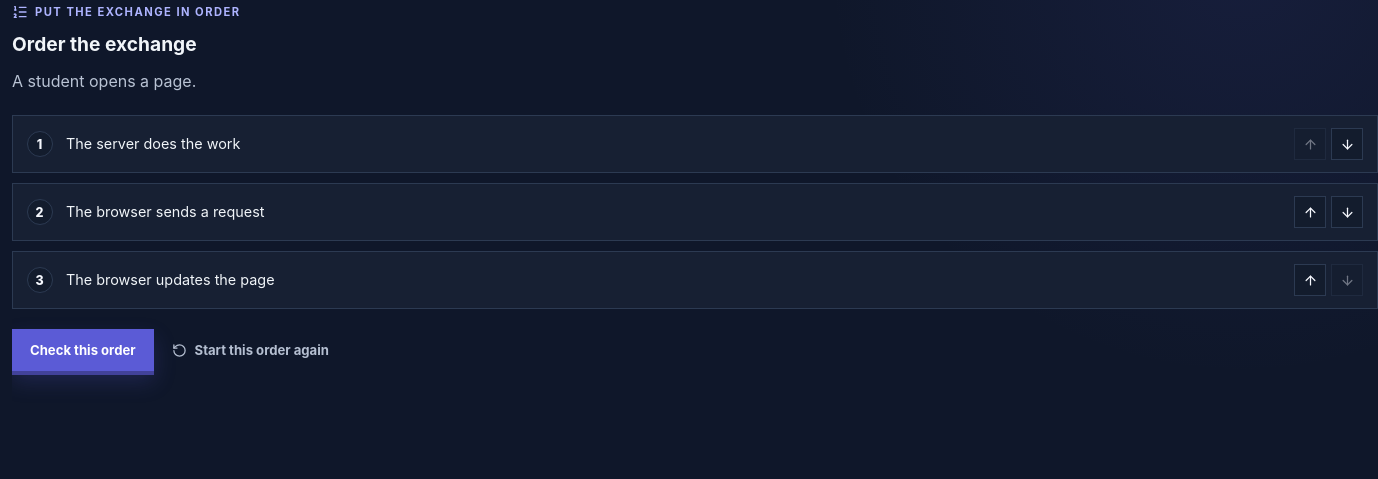
SequenceOrder › reports an order that is not yet right without completing the step
Click the button "Check this order": coordinates (83, 350) [12,329,154,371]
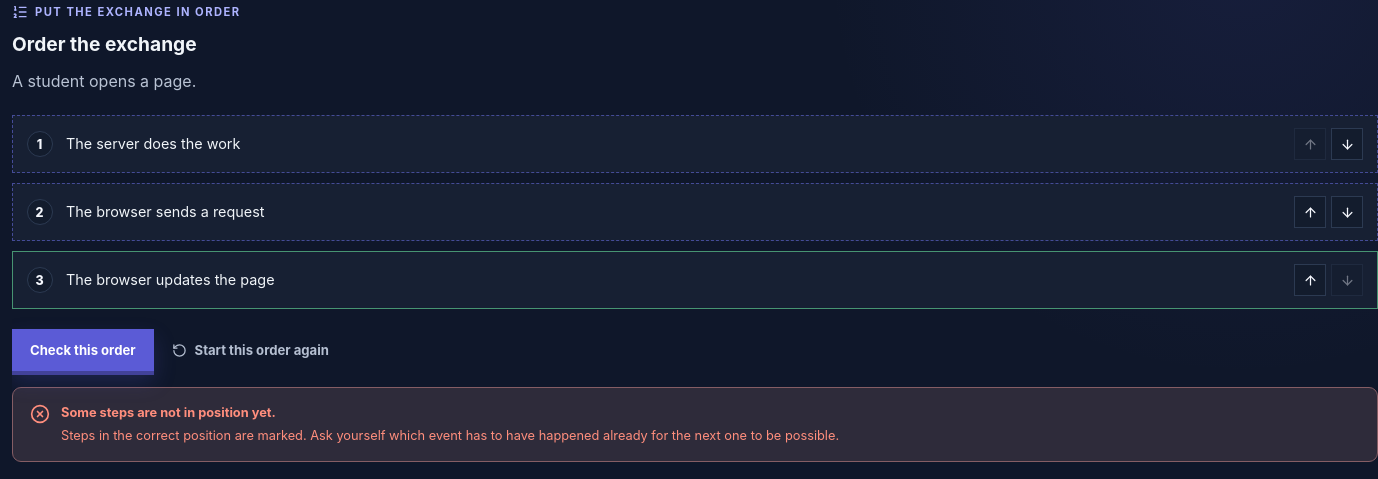
Expected: the message shows "Some steps are not in position yet.", [61,405,276,420]
